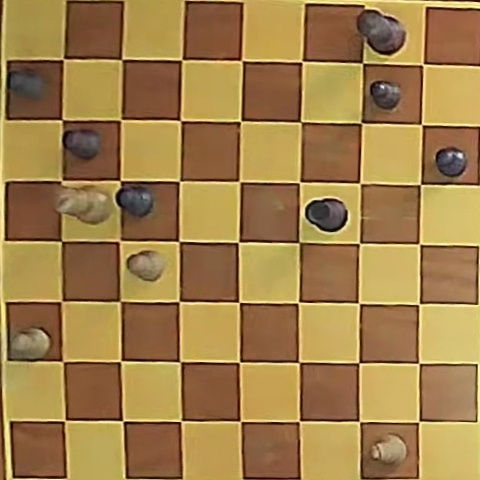black-king: (357, 9, 406, 54)
black-pawn: (116, 185, 153, 217), (8, 69, 47, 99), (63, 129, 101, 159), (370, 80, 402, 110), (435, 147, 467, 177)
black-rook: (306, 198, 347, 232)
white-bishop: (371, 435, 407, 465)
white-king: (56, 185, 110, 223)
white-pawn: (10, 327, 51, 360), (127, 250, 166, 281)
